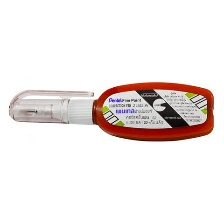correction_fluid: (5, 77, 215, 145)
